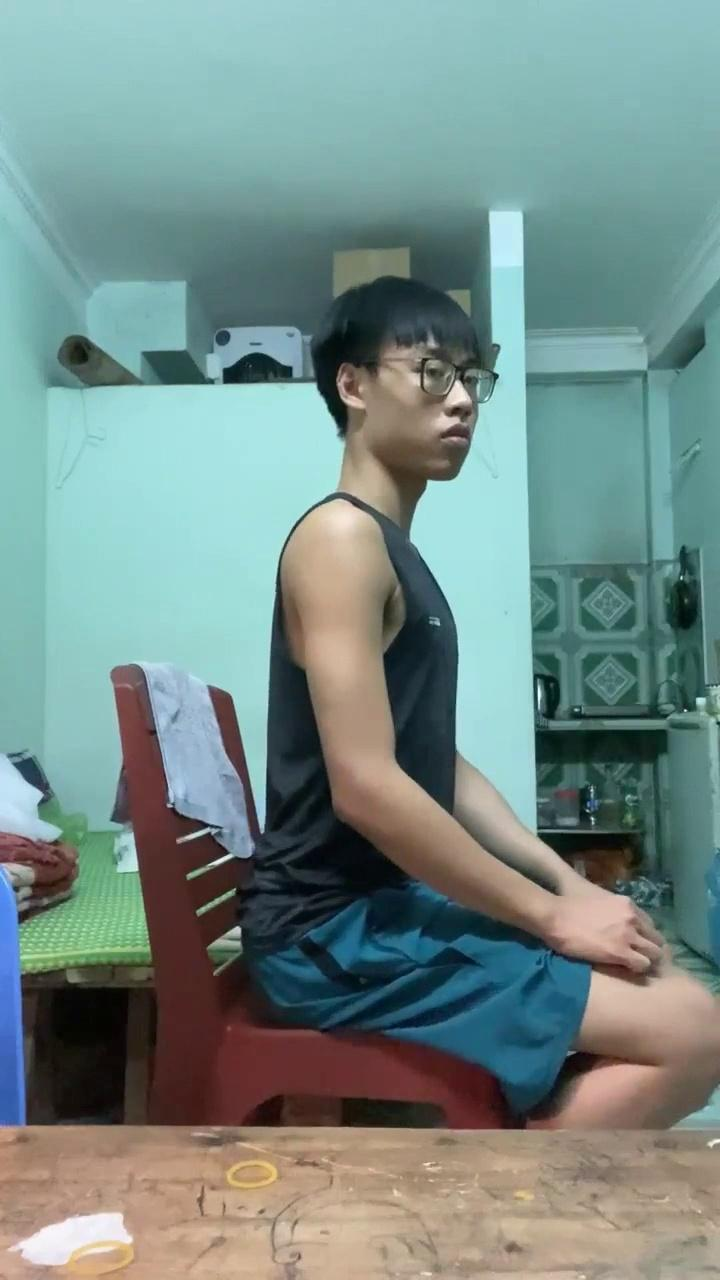GoodPosture: (241, 275, 719, 1127)
